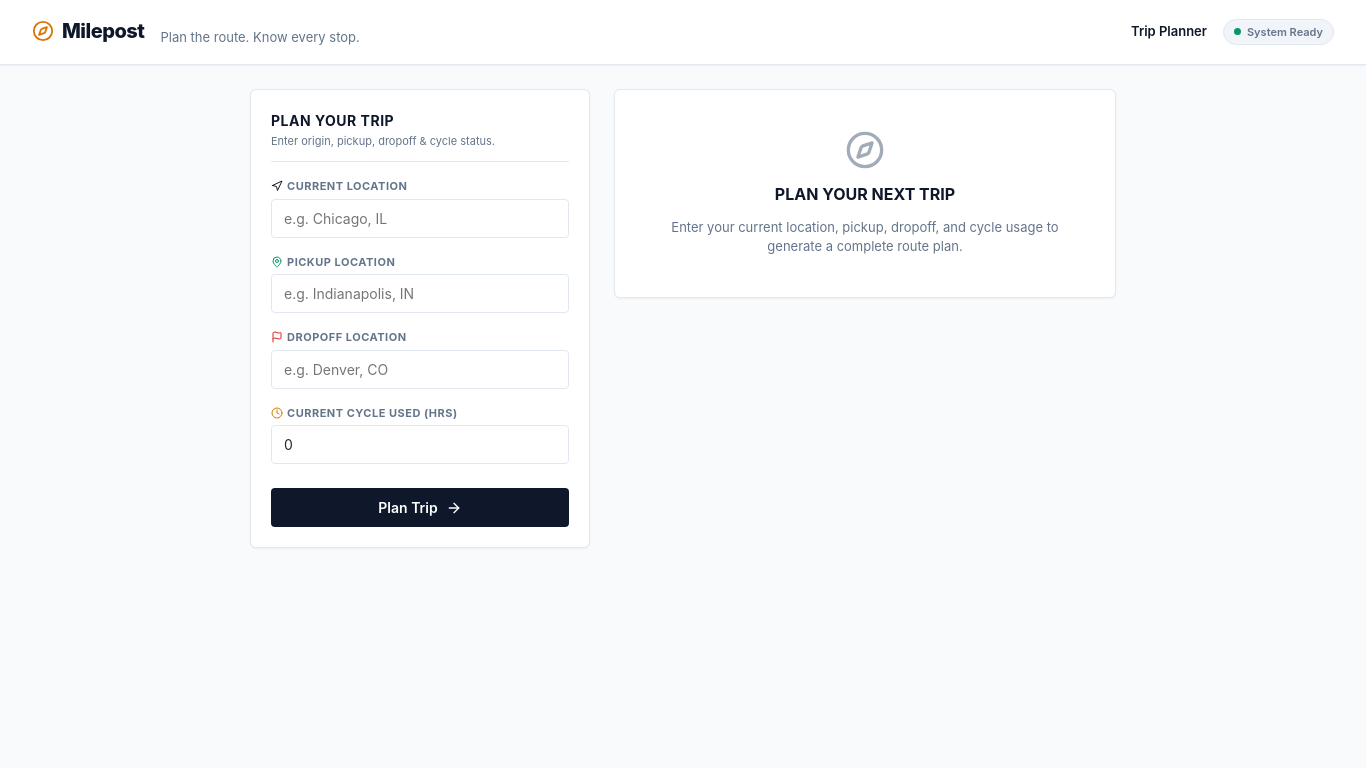
Test case: App States and Integration › shows success state after valid fetch
The width and height of the screenshot is (1366, 768).
Type "Chicago, IL" into the field labelled "Current Location" at (420, 218), box [271, 198, 569, 238]
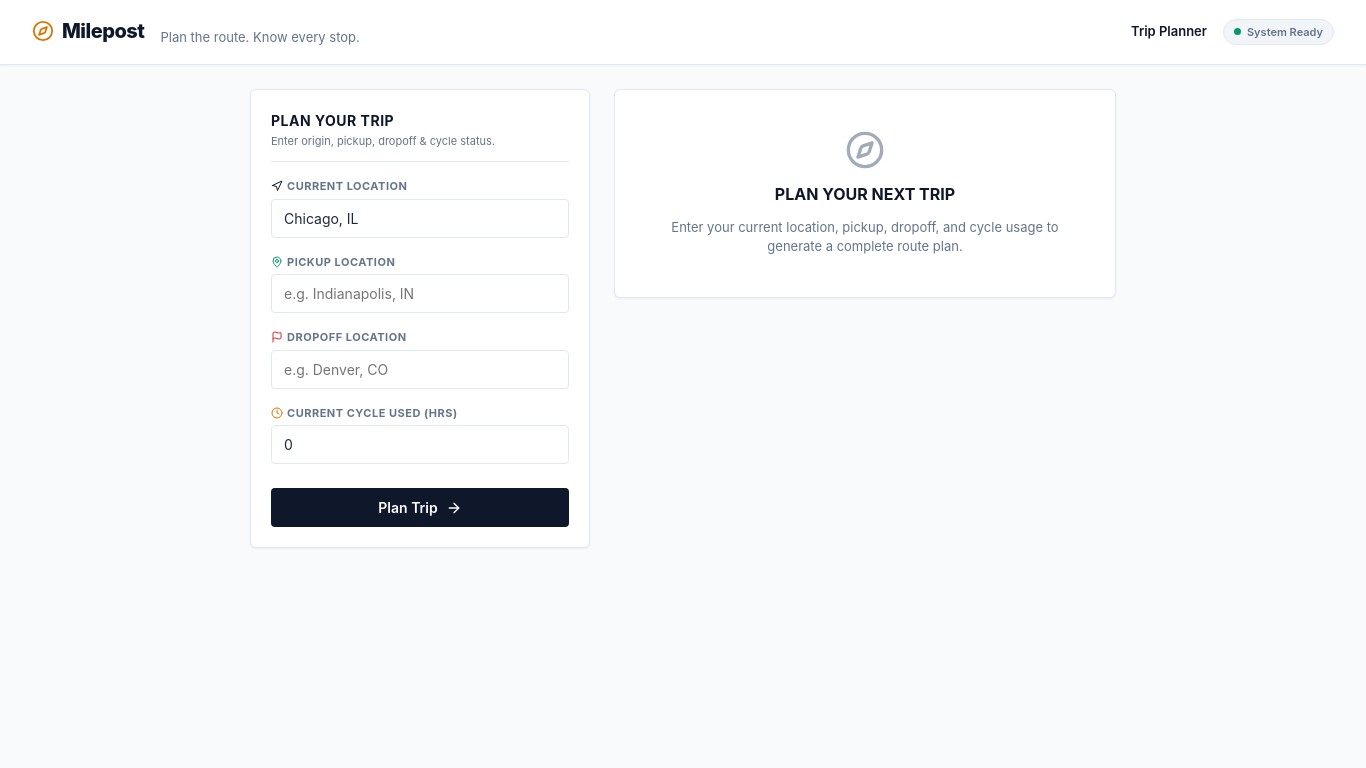
Type "Indy, IN" into the field labelled "Pickup Location" at (420, 294), box [271, 274, 569, 313]
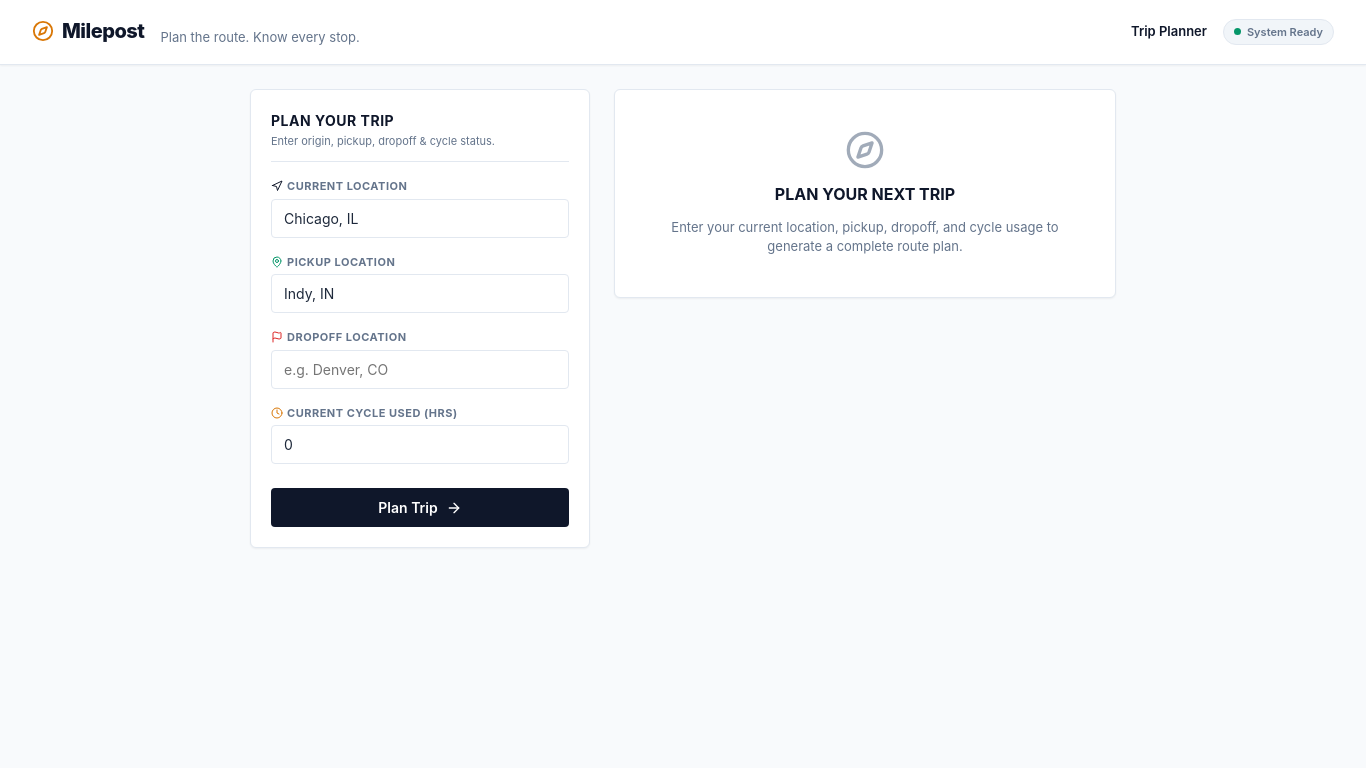
Type "Denver, CO" into the field labelled "Dropoff Location" at (420, 369), box [271, 350, 569, 388]
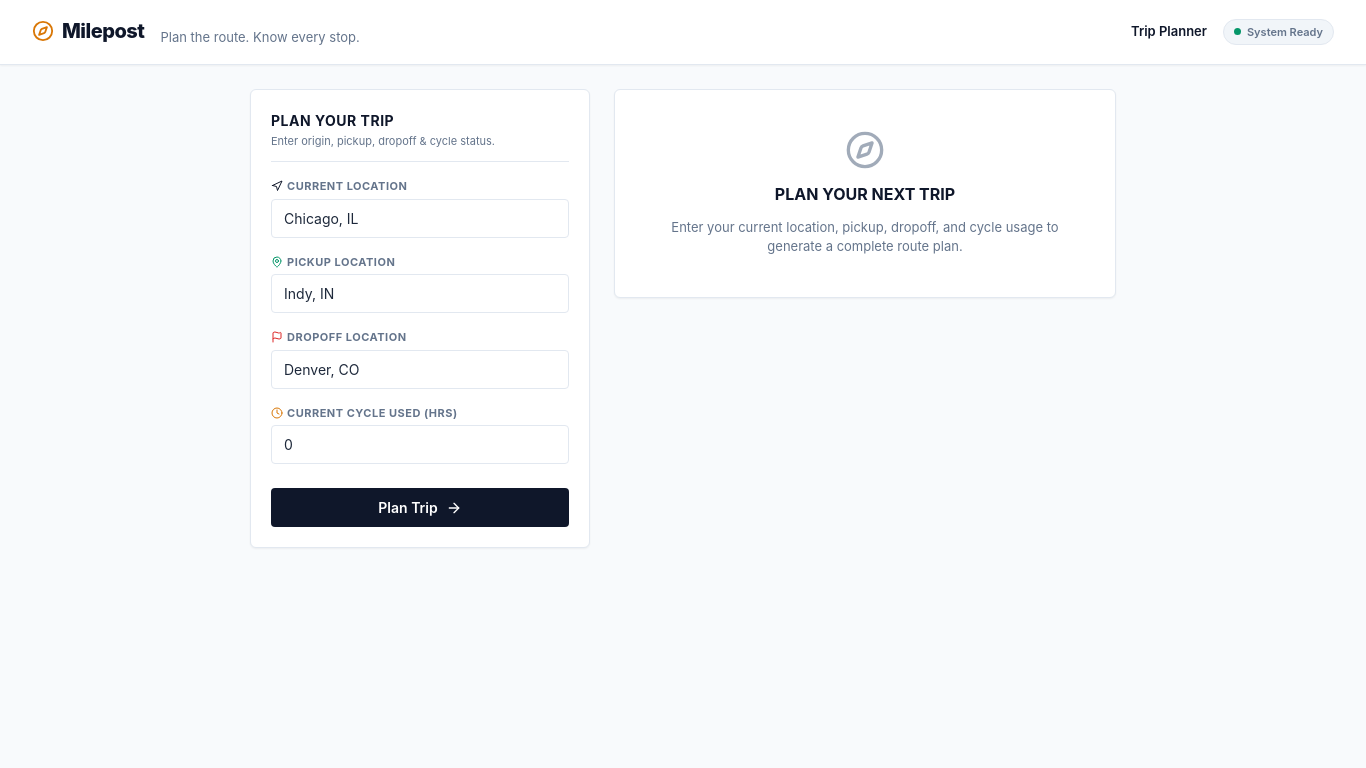
Submit the form with test id "planner-form", box [271, 178, 569, 527]
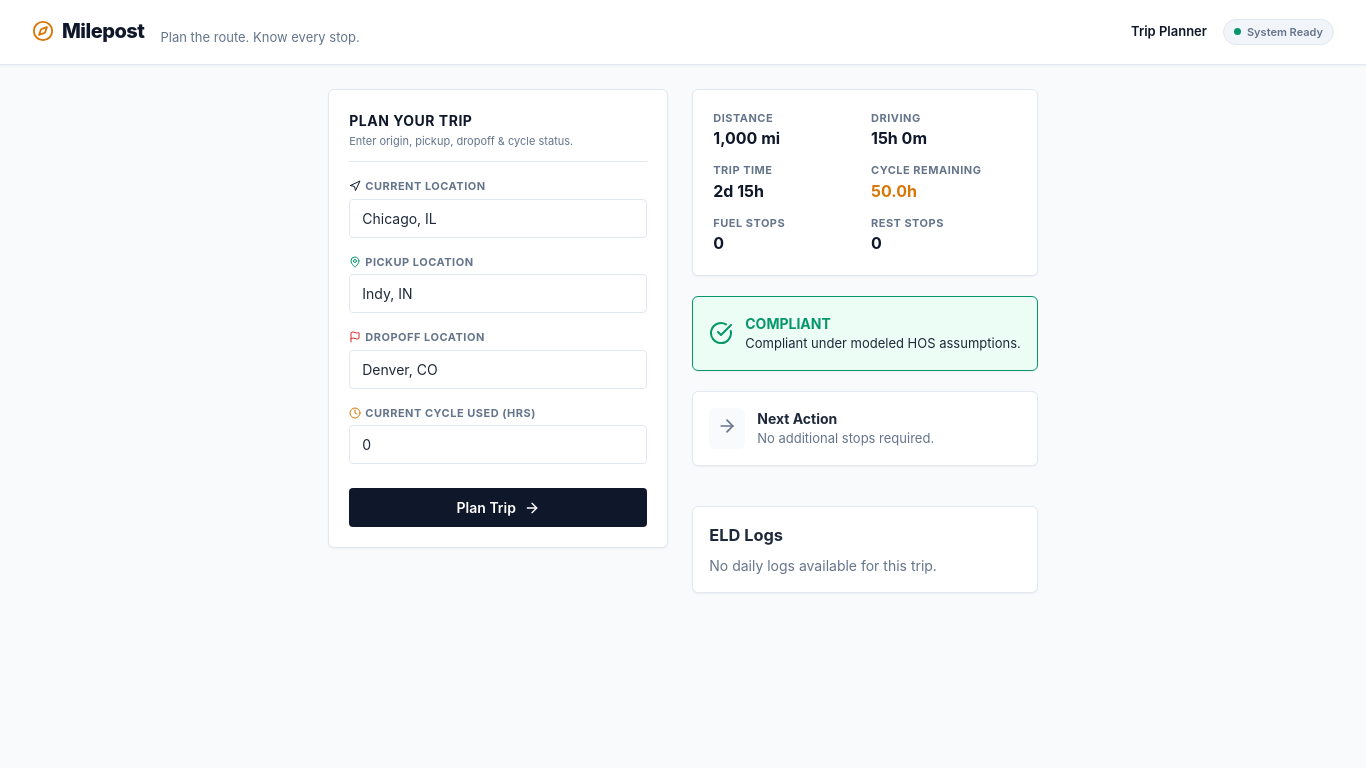
Expected: the element with test id "results-dashboard" is shown, [692, 88, 1038, 593]
Expected: the text "1,000 mi" is shown, [713, 128, 780, 148]
Expected: the text "15h 0m" is shown, [871, 128, 927, 148]
